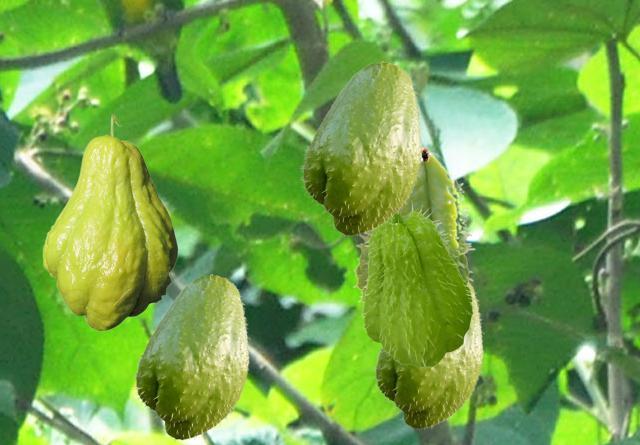sayote: (42, 114, 177, 330), (299, 61, 422, 237), (132, 274, 249, 441), (359, 200, 475, 367), (352, 145, 474, 302), (372, 281, 483, 430)
